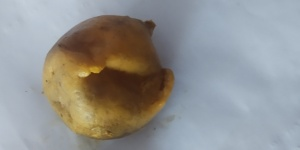BAD: (43, 14, 176, 137)
